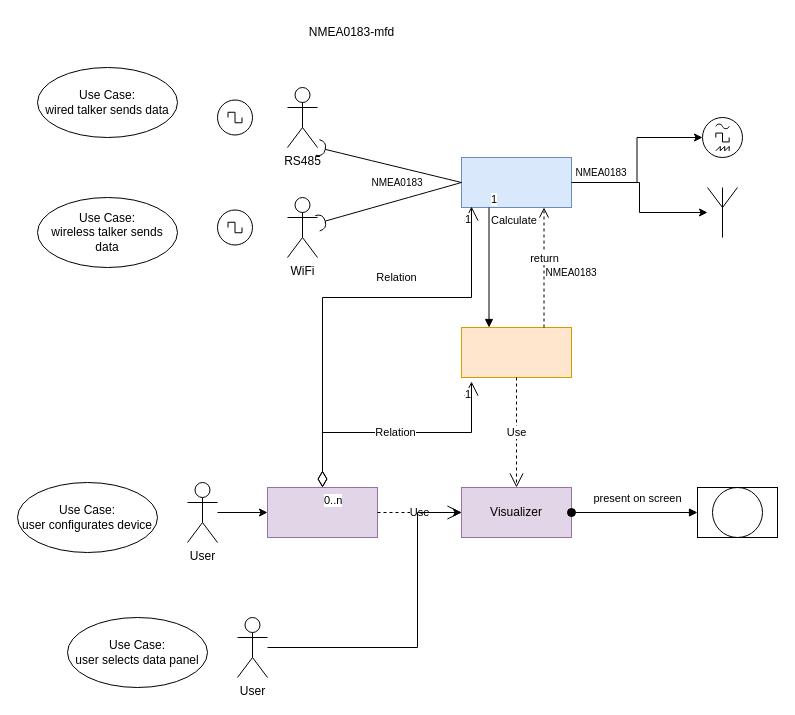
Some shapes in this 795 by 715 pixel diagram are drawn without their labels. The centre of each missing label's shape, as x and y in pixels:
Calculator: point 516,352
Communicator: point 516,182
Configurator: point 322,512
